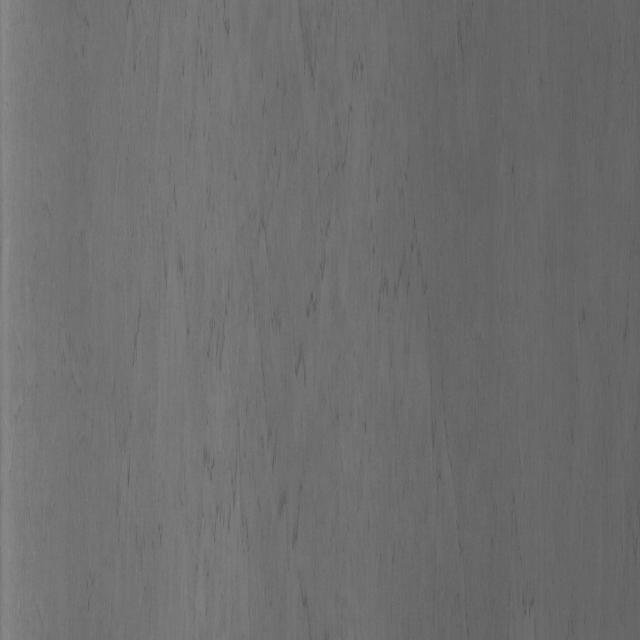inclusion: (199, 180, 364, 498)
